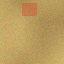vehicle: (21, 2, 36, 15)
